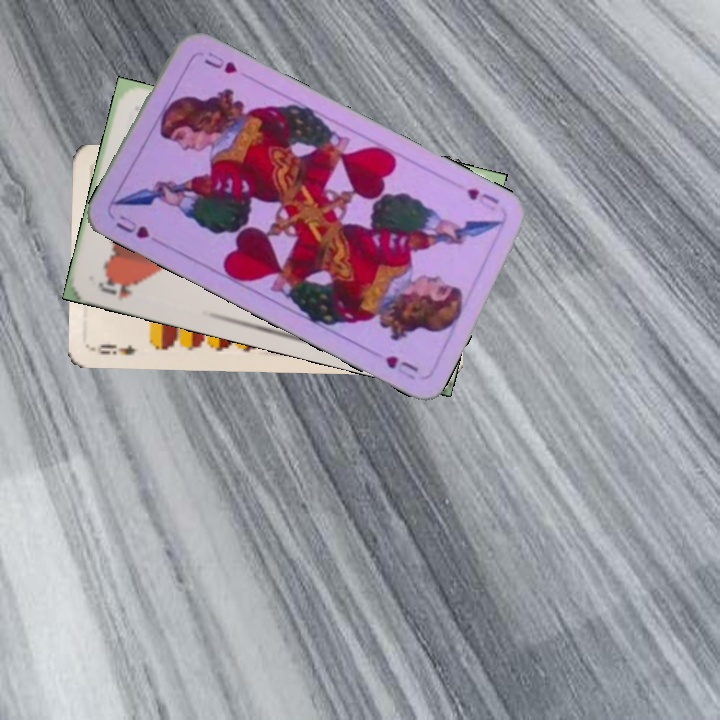E9: (90, 340, 138, 358)
HO: (94, 272, 141, 302)
HU: (111, 210, 152, 242), (463, 183, 502, 214)
